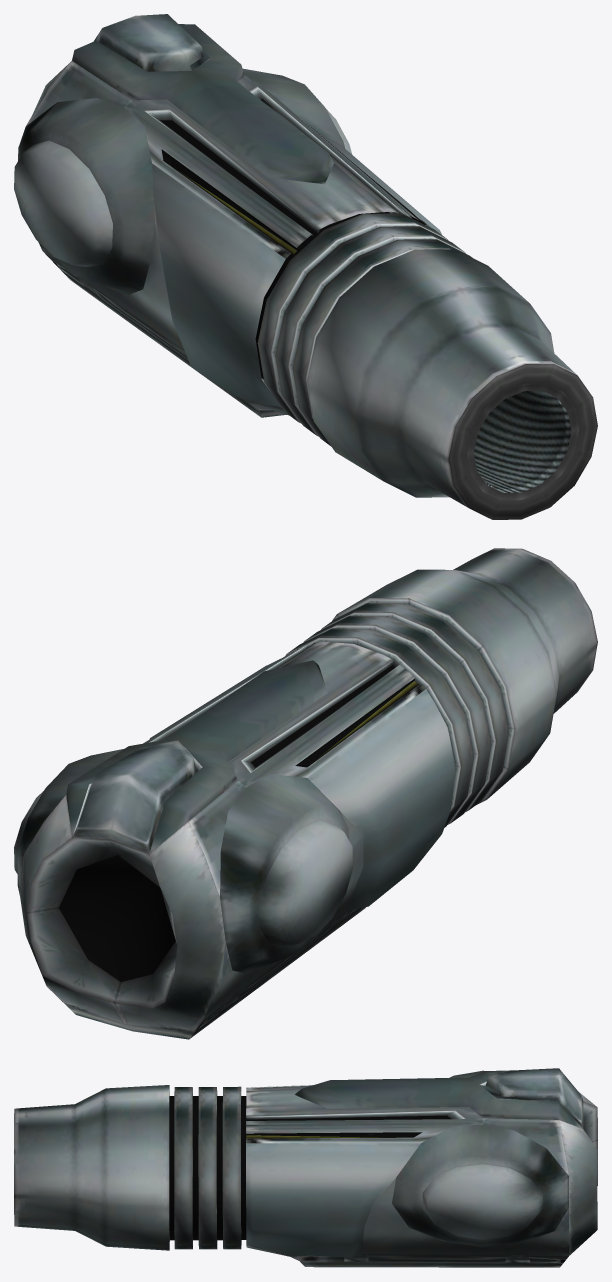
File: Arm Cannon.glb
3 renders of one model, top to bottom at view 1: azimuth 30°, elevation 25°; view 2: azimuth 150°, elevation 25°; view 3: azimuth 270°, elevation 25°, orthographic. The views are drawn at different scales.
Parts seen in each view (by area): view 1: Object_4; view 2: Object_4; view 3: Object_4.
Part boxes in pixels (box(x1,y1,x2,y2)): Object_4: box(14, 14, 597, 519); Object_4: box(14, 548, 597, 1039); Object_4: box(14, 1068, 597, 1267).
Size of the model in its own units: 1.08 by 0.9512 by 2.83.
Materials: 1 (1 with a texture image).
